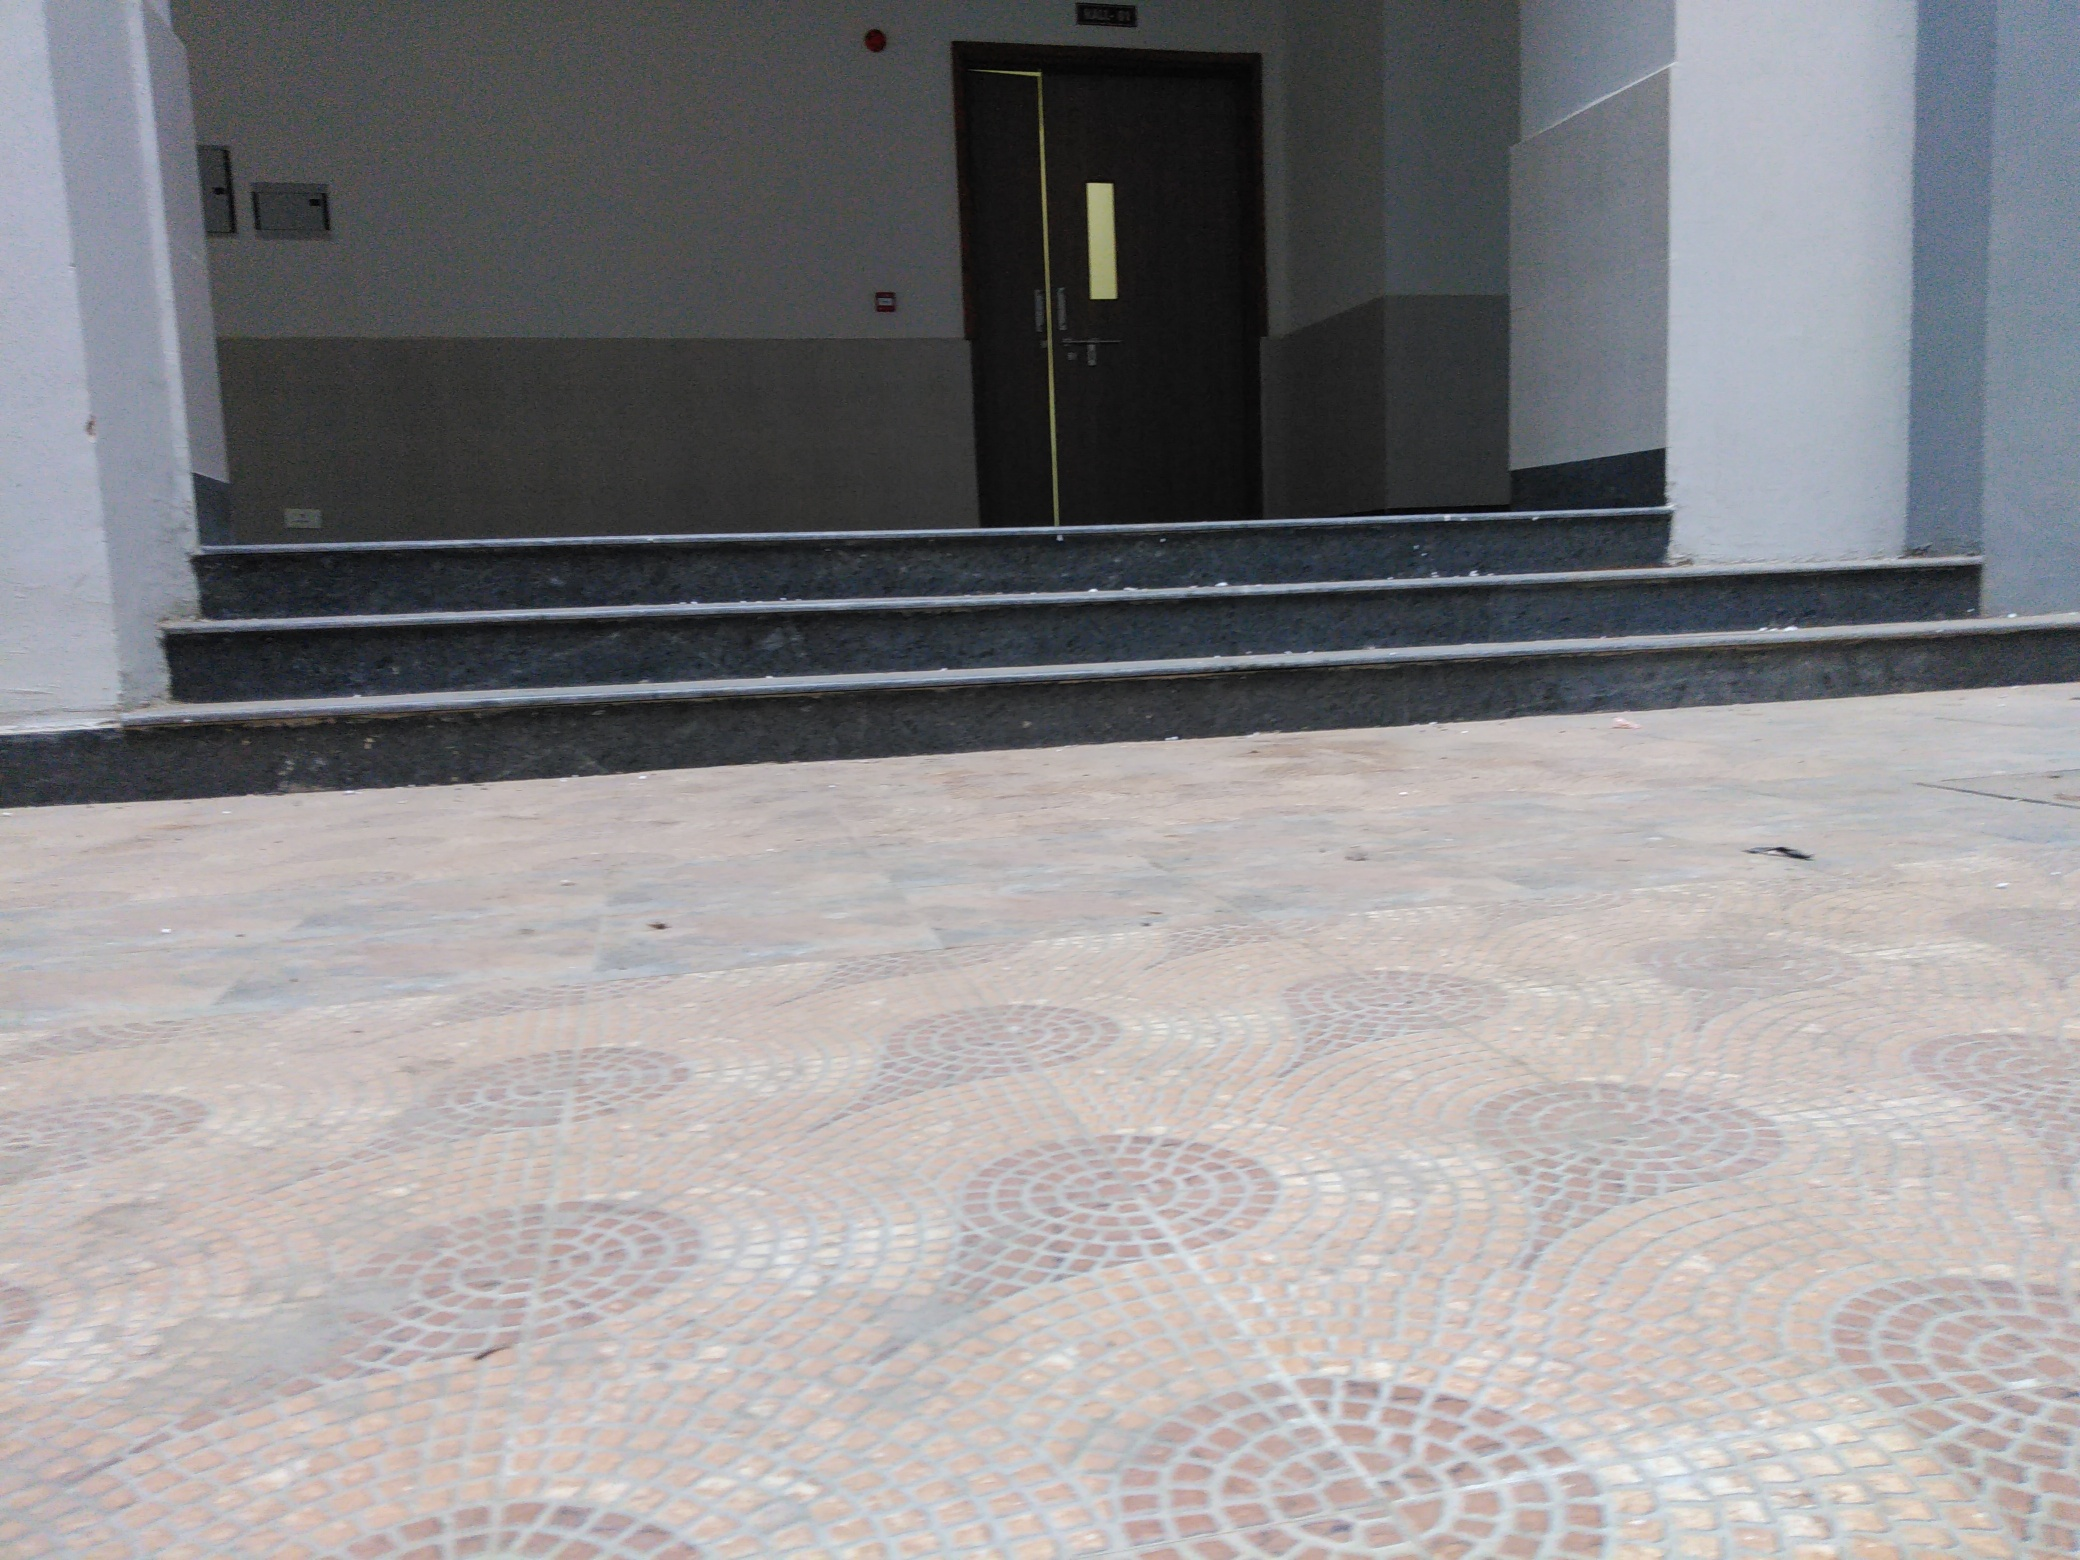stairs_up: (151, 546, 1870, 742)
